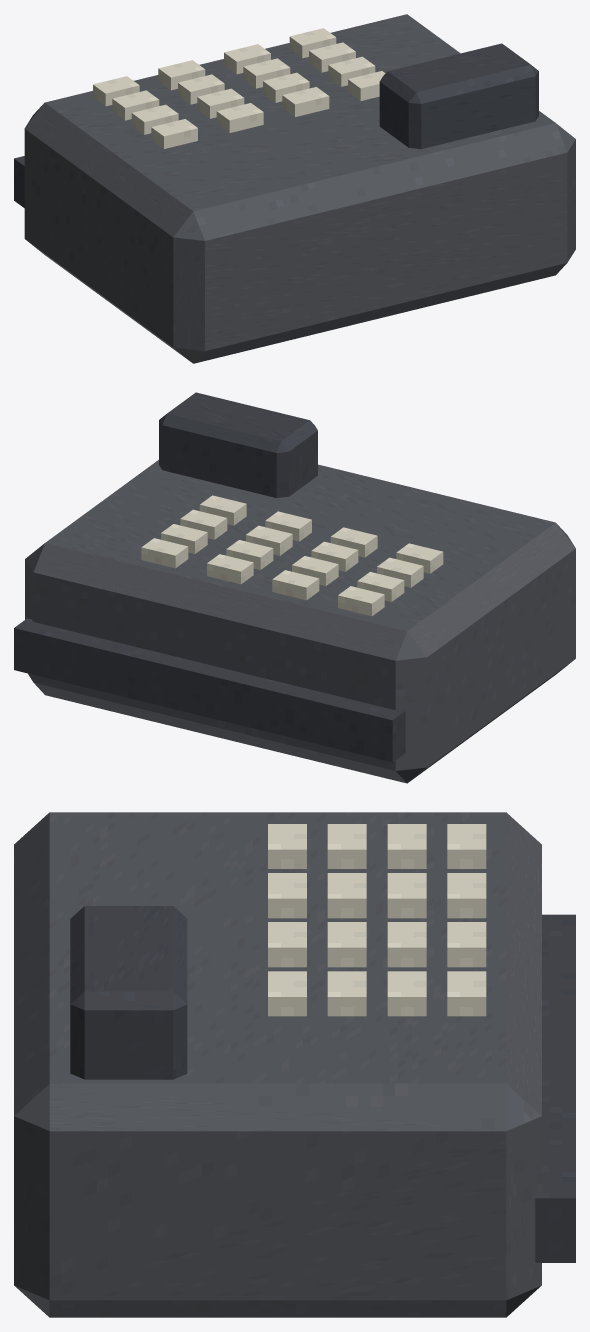
Rendered from cash_register.glb.
3 views of the same model, one above another, from view 1: azimuth 30°, elevation 25°; view 2: azimuth 150°, elevation 25°; view 3: azimuth 270°, elevation 25° (orthographic). The views are drawn at different scales.
Parts seen in each view (by area): view 1: block_appliance housing, block_register key (×16), block_customer display, block_cash drawer; view 2: block_appliance housing, block_cash drawer, block_register key (×16), block_customer display; view 3: block_appliance housing, block_register key (×16), block_customer display, block_cash drawer.
Boxes of the visible parts, x1,y1,x2,y2 form: block_appliance housing: [24, 14, 575, 363]; block_register key (×16): [93, 28, 385, 148]; block_customer display: [379, 43, 538, 149]; block_cash drawer: [14, 156, 24, 207]; block_appliance housing: [25, 460, 575, 783]; block_cash drawer: [14, 618, 405, 762]; block_register key (×16): [141, 495, 443, 616]; block_customer display: [159, 392, 317, 497]; block_appliance housing: [14, 812, 541, 1317]; block_register key (×16): [268, 824, 486, 1016]; block_customer display: [70, 906, 187, 1079]; block_cash drawer: [535, 914, 575, 1262].
Size of the model in its own units: 0.36 by 0.1758 by 0.2834.
1 material, 1 textured.
